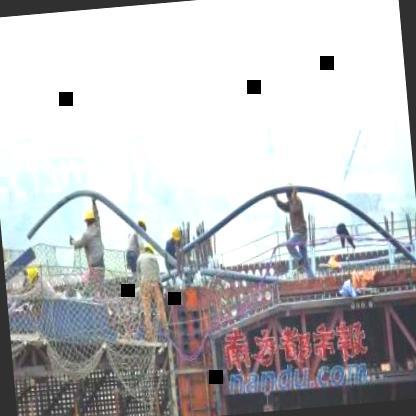helmet: (82, 206, 98, 231), (141, 240, 158, 262), (26, 264, 43, 286), (134, 214, 150, 234), (170, 225, 184, 245)
